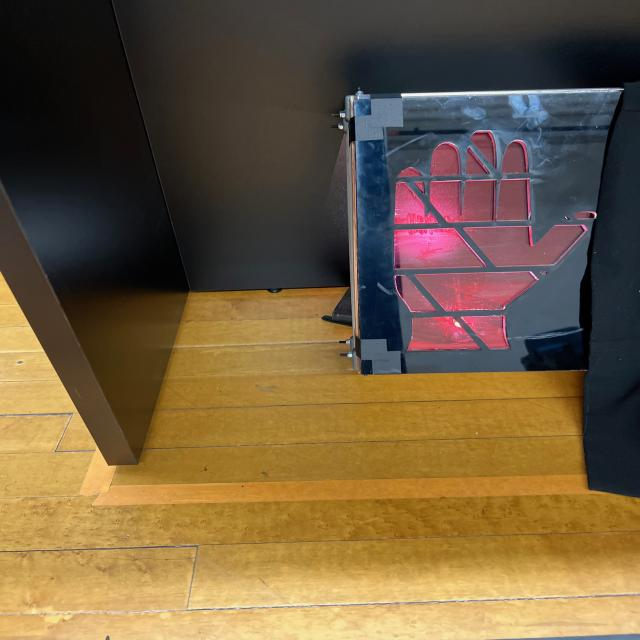stop: (350, 97, 595, 370)
